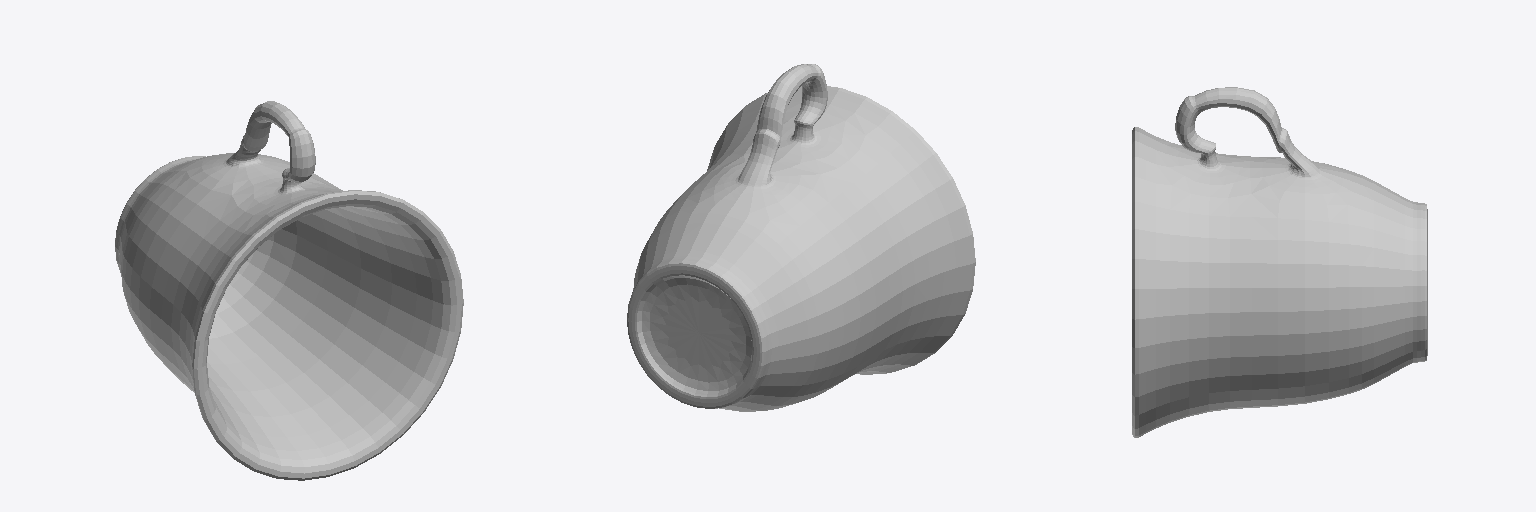
3 renders of one model, left to right at view 1: azimuth 30°, elevation 25°; view 2: azimuth 150°, elevation 25°; view 3: azimuth 270°, elevation 25°, orthographic.
Parts seen in each view (by area): view 1: porcelain_cup; view 2: porcelain_cup; view 3: porcelain_cup.
Part boxes in pixels (x1,y1,x2,y2): porcelain_cup: (115, 101, 463, 480); porcelain_cup: (627, 64, 975, 411); porcelain_cup: (1132, 87, 1427, 437).
Size of the model in its own units: 0.0831 by 0.0986 by 0.0786.